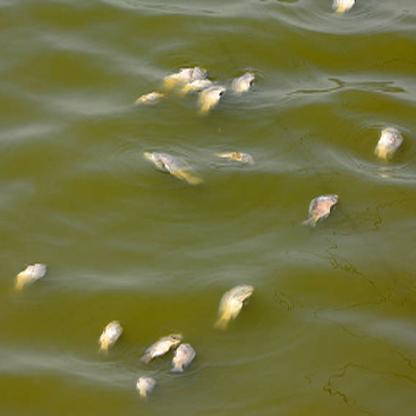deceased fish: (213, 281, 253, 328), (140, 330, 183, 365), (301, 192, 341, 228), (96, 315, 125, 362), (174, 343, 195, 380)
